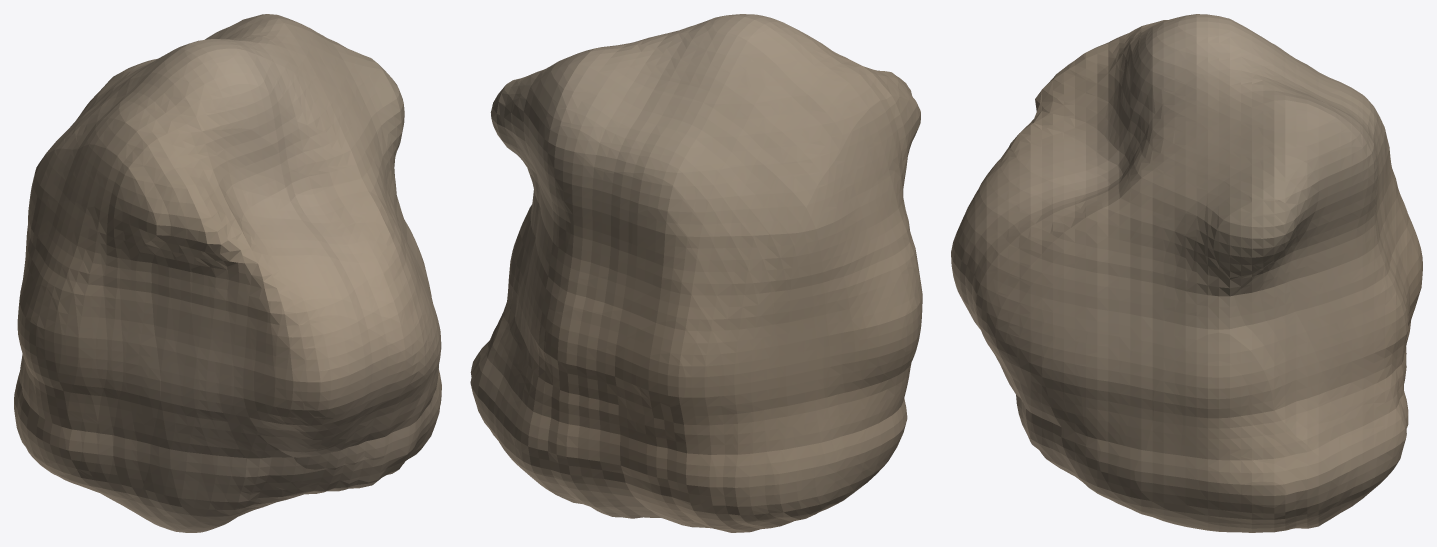
Rendered from tmp05caa0nf.glb.
The picture shows the model from 3 angles, left to right: view 1: azimuth 30°, elevation 25°; view 2: azimuth 150°, elevation 25°; view 3: azimuth 270°, elevation 25°; orthographic projection. The views are drawn at different scales.
Visible parts, largest first — view 1: tmph2mvdal6.ply; view 2: tmph2mvdal6.ply; view 3: tmph2mvdal6.ply.
Boxes of the visible parts, x1,y1,x2,y2 form: tmph2mvdal6.ply: [14, 14, 441, 532]; tmph2mvdal6.ply: [470, 14, 922, 532]; tmph2mvdal6.ply: [951, 14, 1422, 532].
Size of the model in its own units: 0.6425 by 0.7118 by 0.6612.
